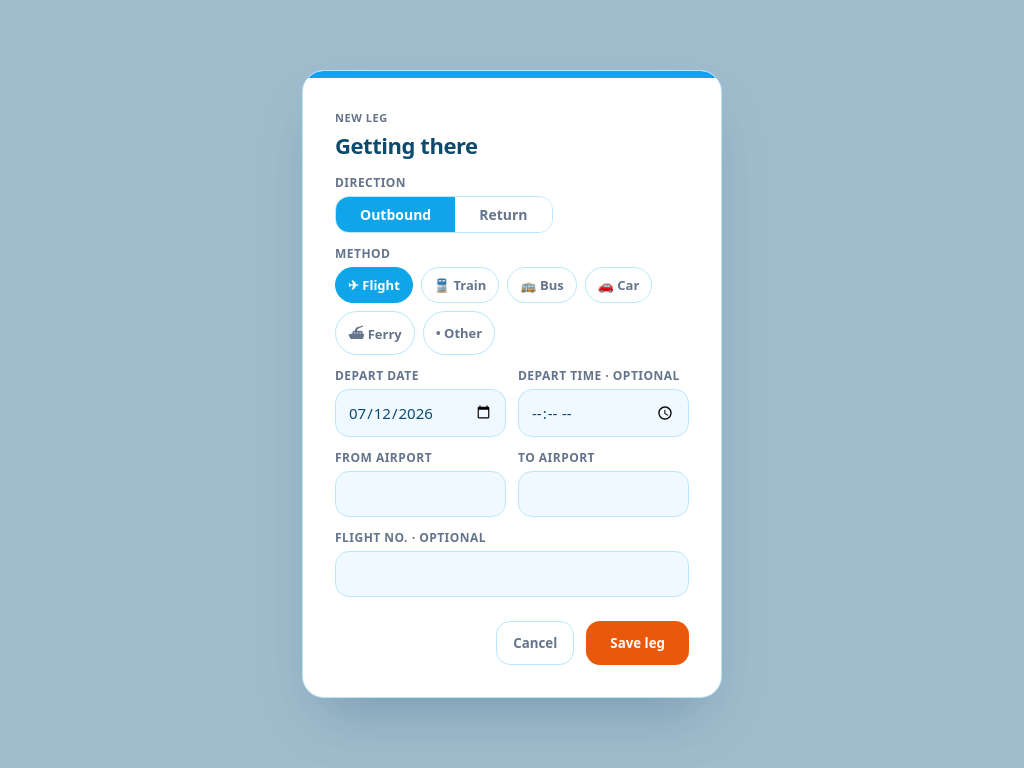
Test: TransportEditorModal › hides the reference field for car
Click the button "🚗 Car".
click(618, 285)  # box [585,267,652,303]
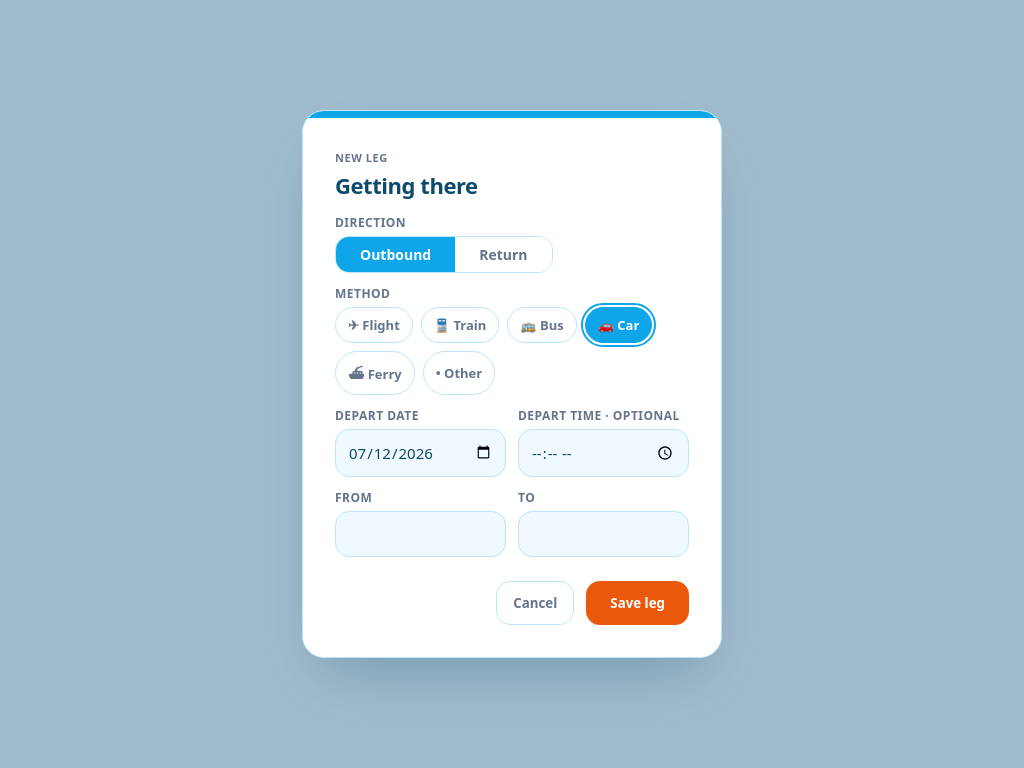
Check: the label labelled "Flight no" is gone
